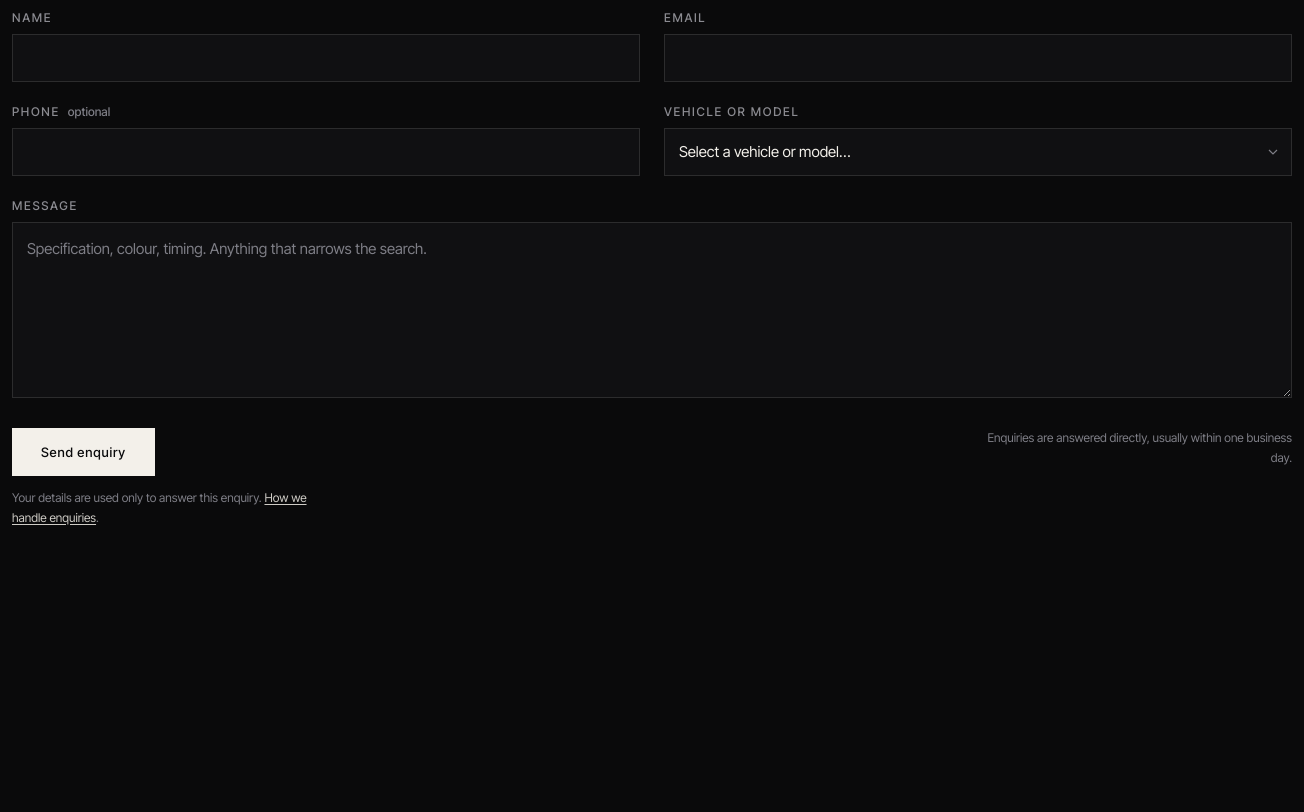
Test: InquiryForm › never reports success when delivery fails
The width and height of the screenshot is (1304, 812).
Type "Alex Marlowe" into the field labelled "Name" at (326, 58), box [12,34,640,82]
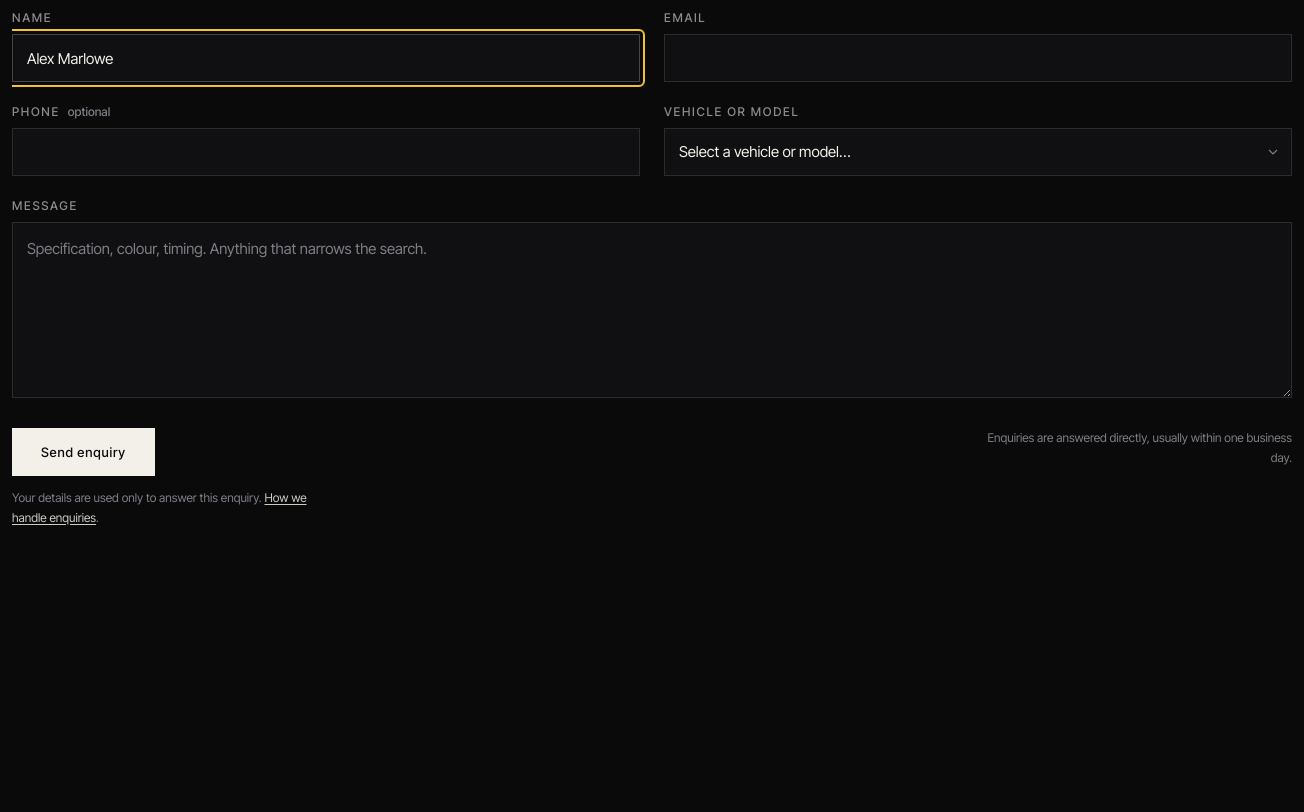
Type "alex@example.org" into the field labelled "Email" at (978, 58), box [664,34,1292,82]
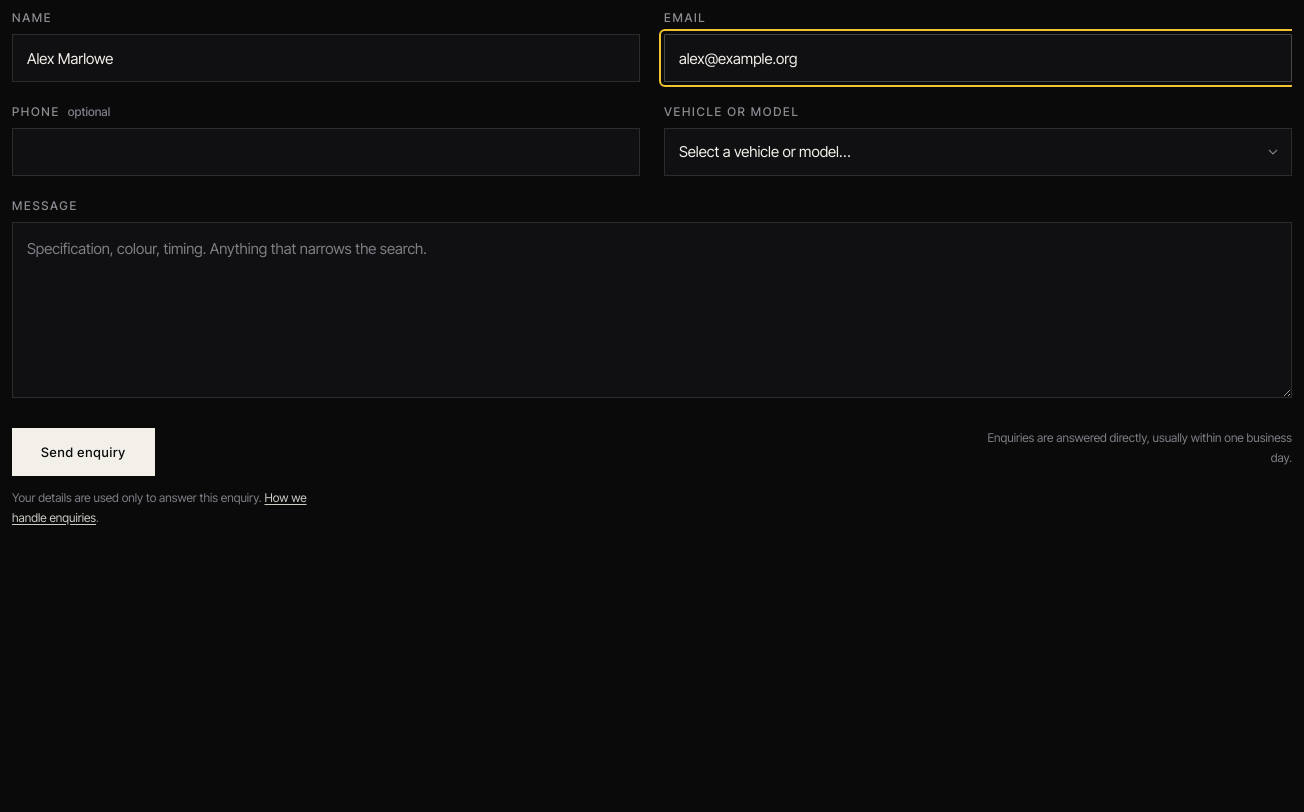
Select "Porsche 911 GT3 Touring" in the dropdown labelled "Vehicle or model" at (978, 152), box [664,128,1292,176]
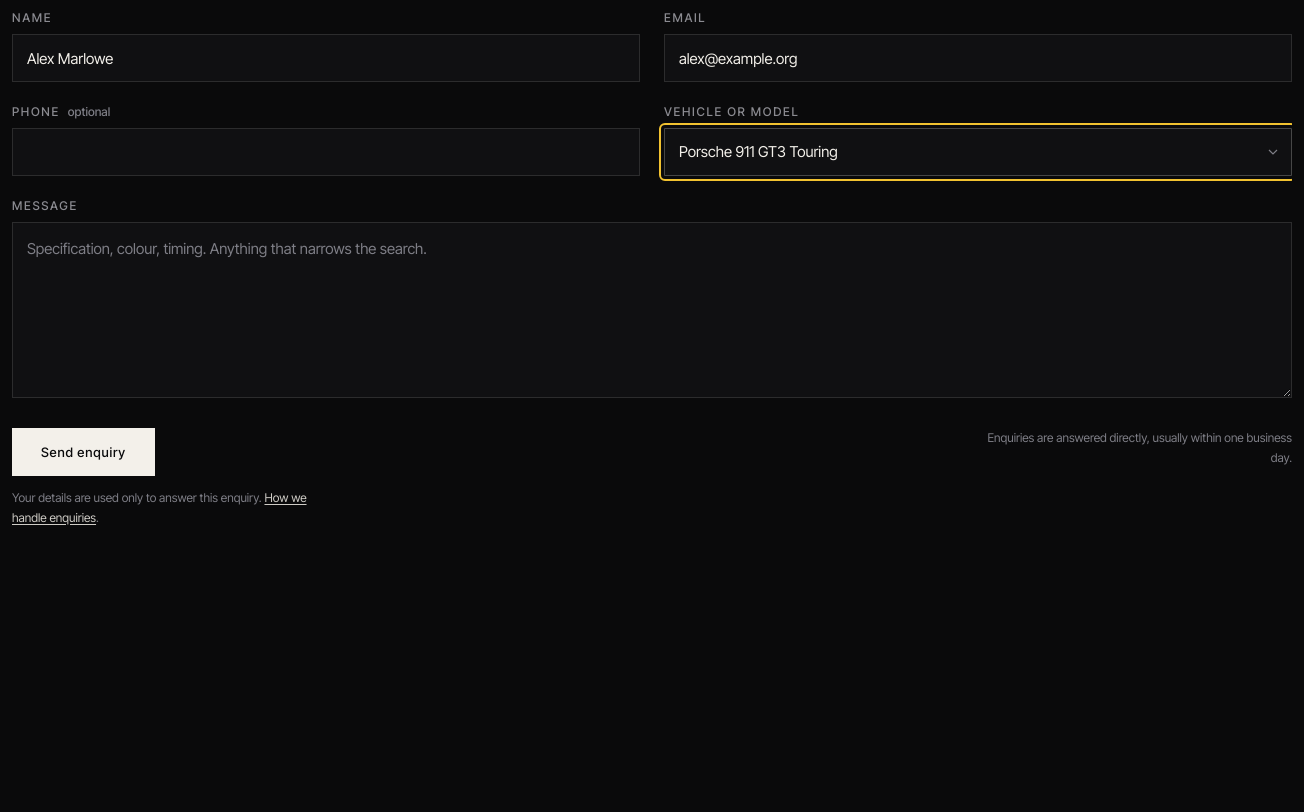
Type "Looking for a manual car in Shark Blue, flexible on timing." into the text box labelled "Message" at (652, 310), box [12,222,1292,398]
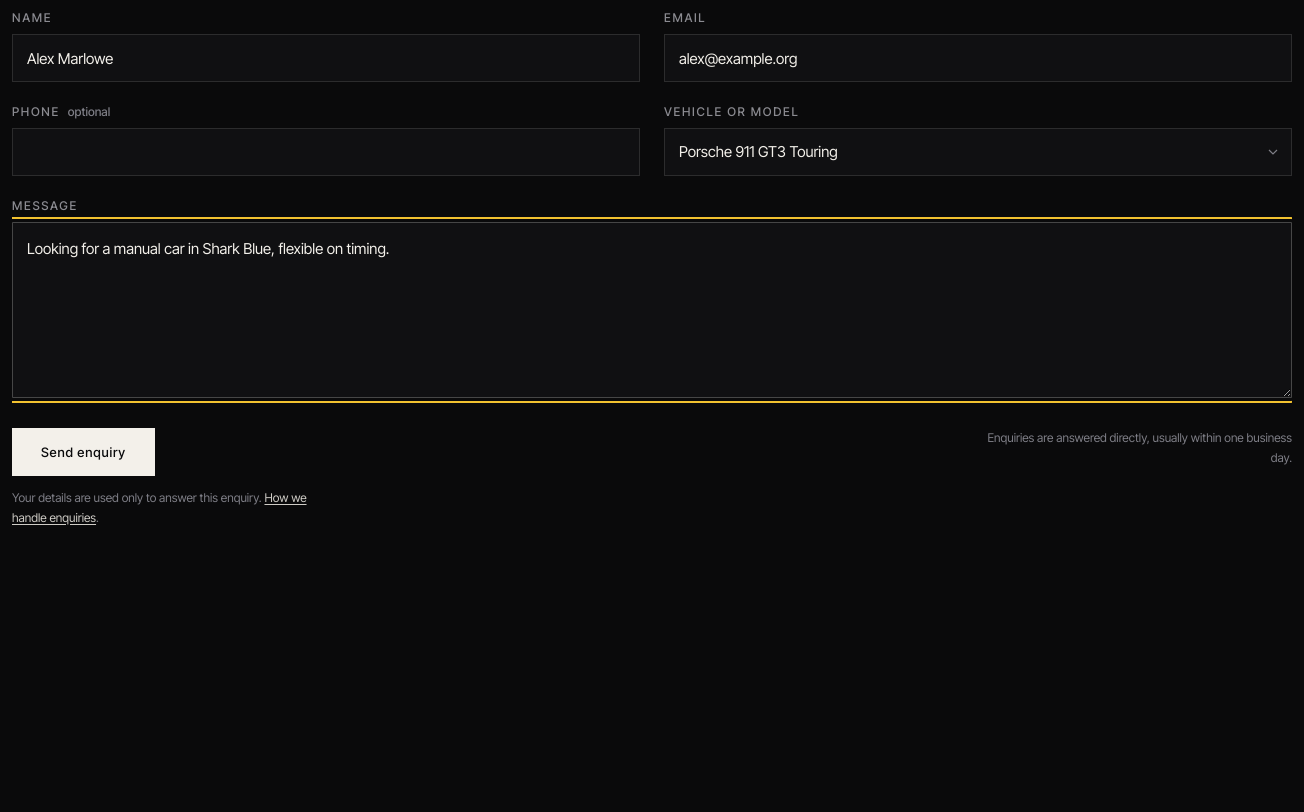
Click the button "Send enquiry" at (83, 452), box [12,428,155,476]
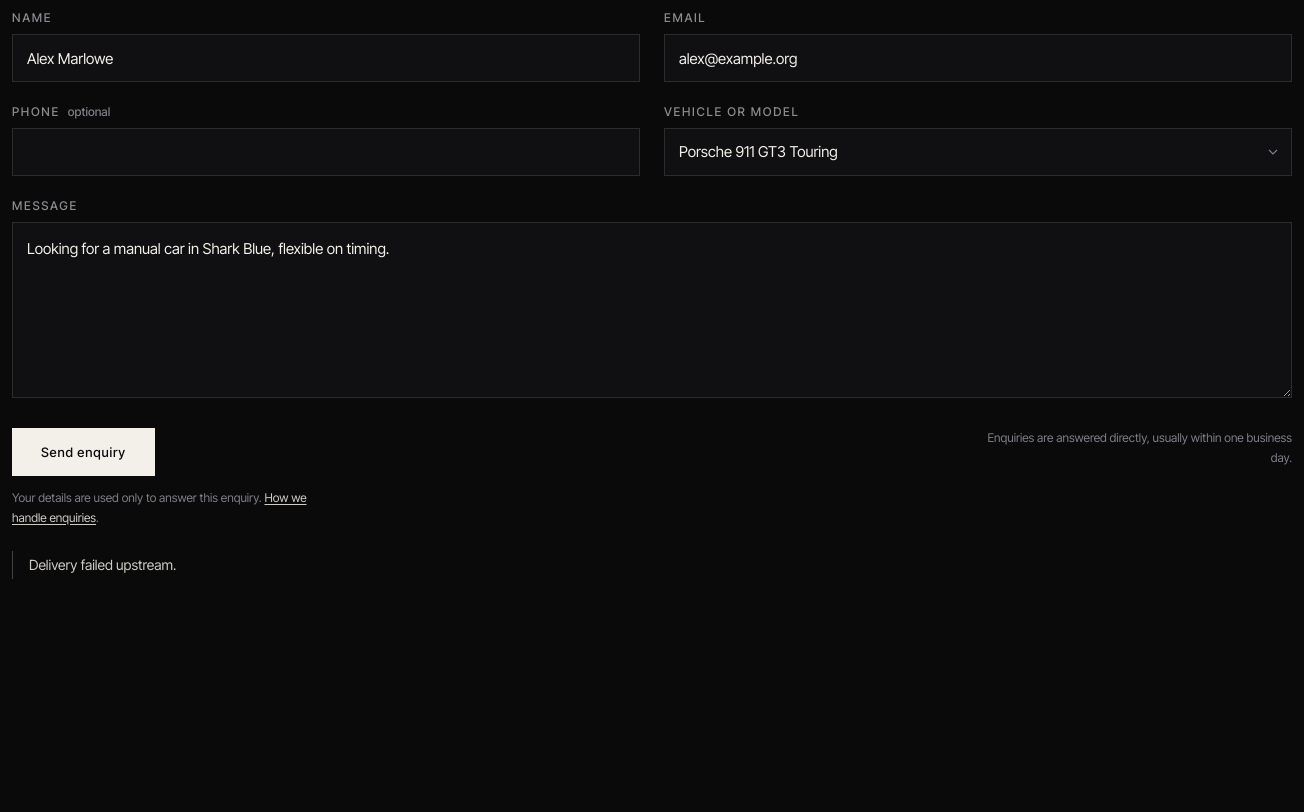
expect the text "Delivery failed upstream." is shown: met, box [12,551,1292,579]
